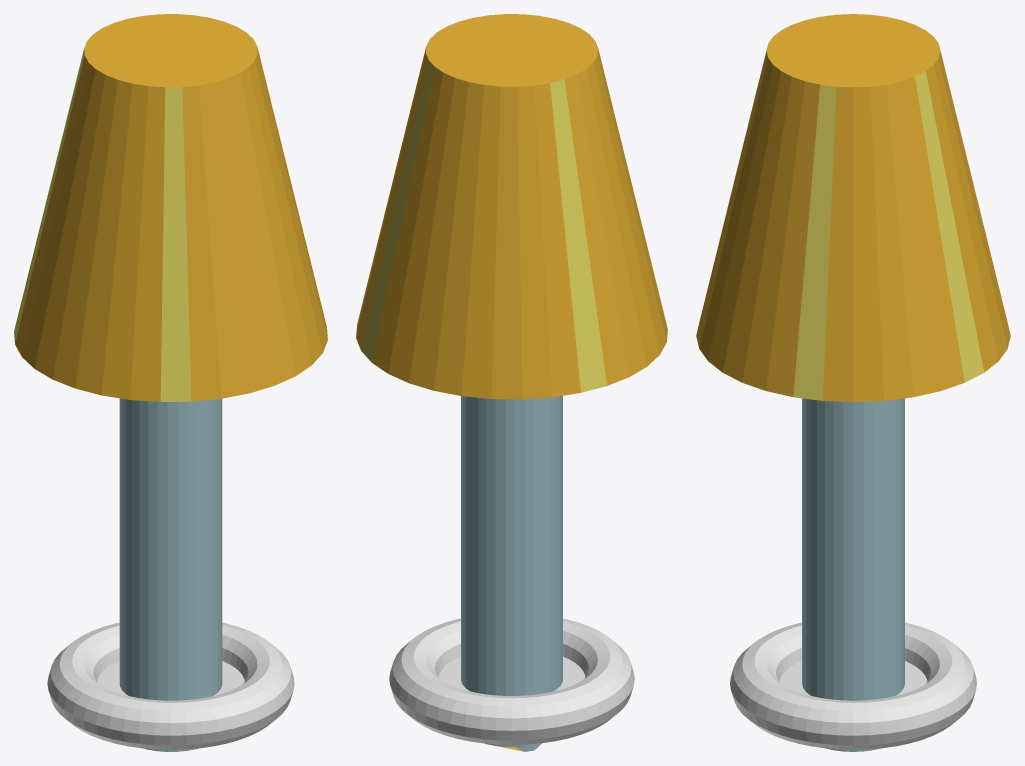
The model's file is lamp.fbx.
3 views of the same model, side by side, from view 1: azimuth 30°, elevation 25°; view 2: azimuth 150°, elevation 25°; view 3: azimuth 270°, elevation 25° (orthographic).
Parts seen in each view (by area): view 1: Cylinder, Torus, Plane; view 2: Cylinder, Torus, Plane; view 3: Cylinder, Torus, Plane.
Part boxes in pixels (x1,y1,x2,y2): Cylinder: (14, 14, 327, 751); Torus: (47, 622, 294, 749); Plane: (97, 661, 244, 695); Cylinder: (356, 14, 667, 751); Torus: (389, 618, 634, 744); Plane: (438, 656, 585, 691); Cylinder: (696, 14, 1010, 751); Torus: (730, 622, 976, 749); Plane: (779, 661, 927, 695).
Size of the model in its own units: 318 by 765 by 318.
